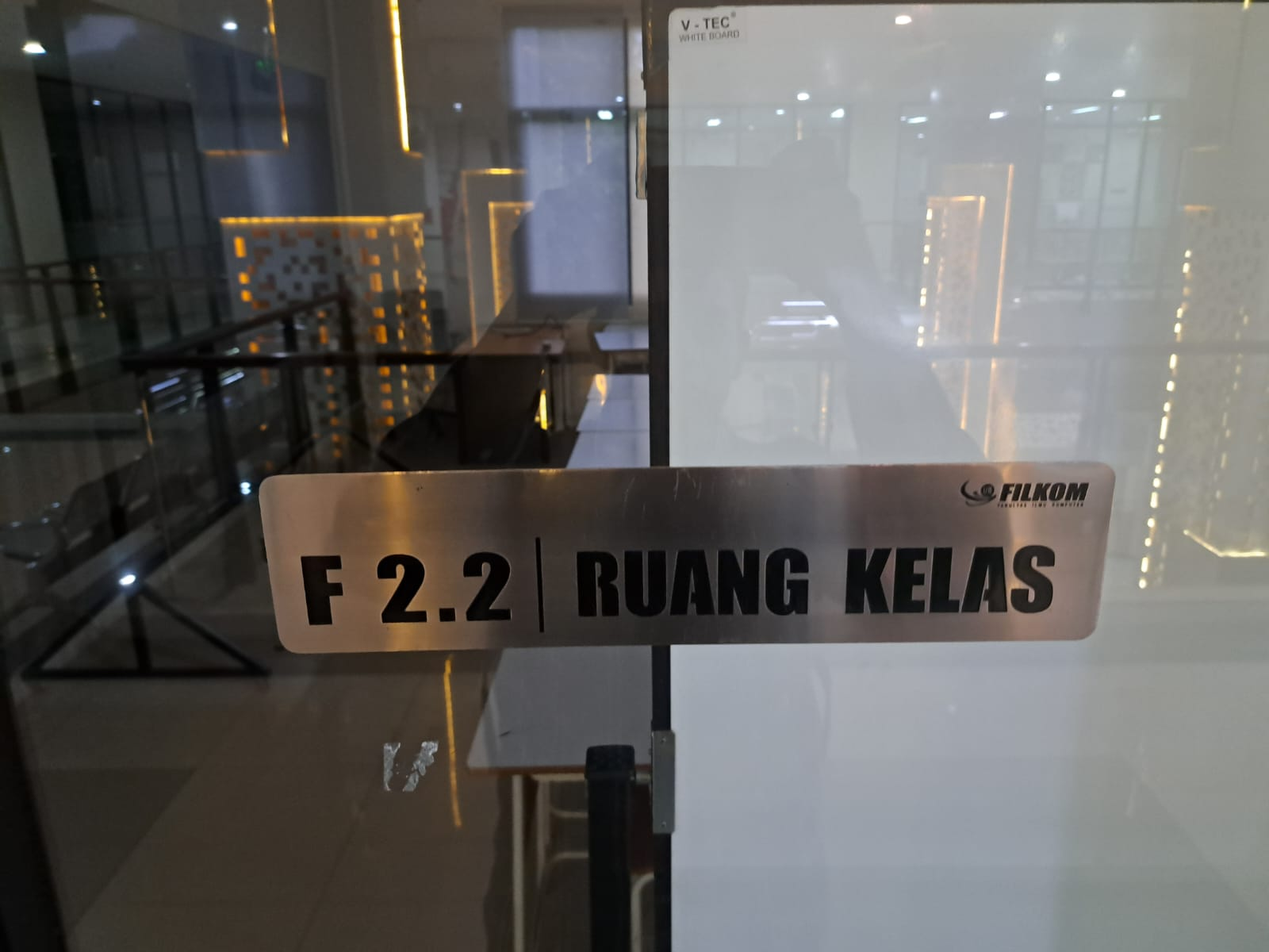ruangan: (249, 451, 1130, 661)
